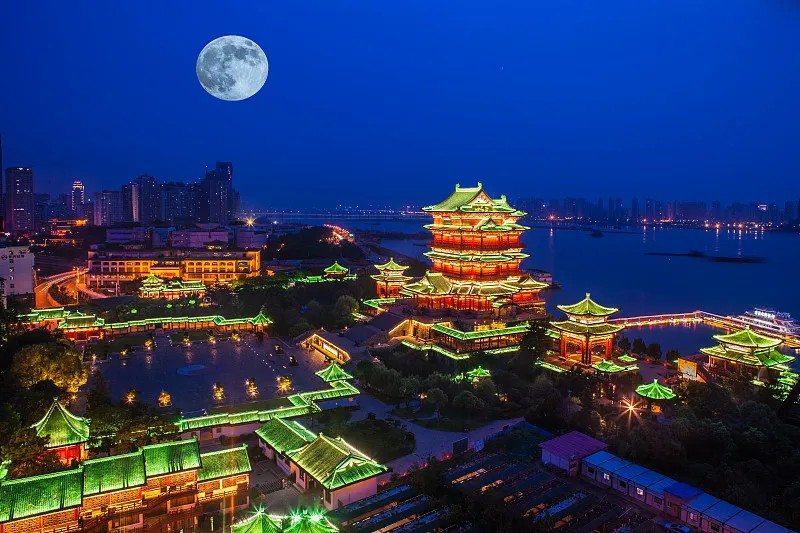Teng: (398, 184, 548, 317)
